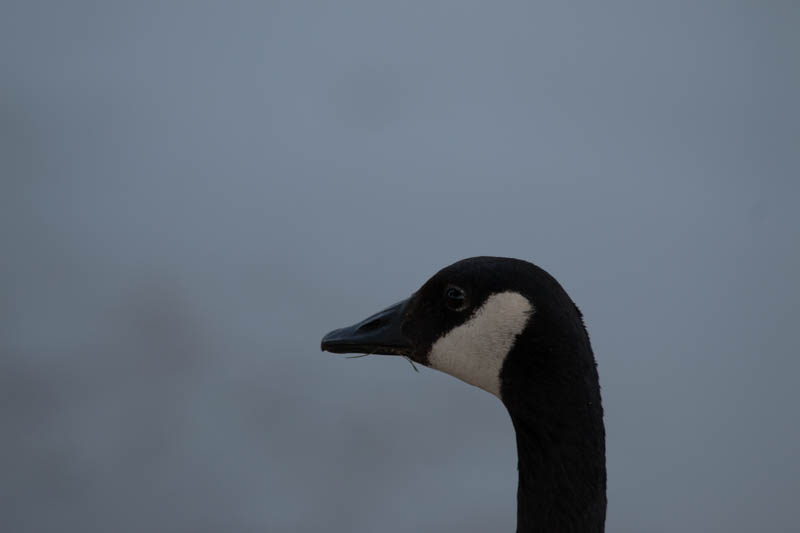goose-head: (318, 255, 603, 402)
